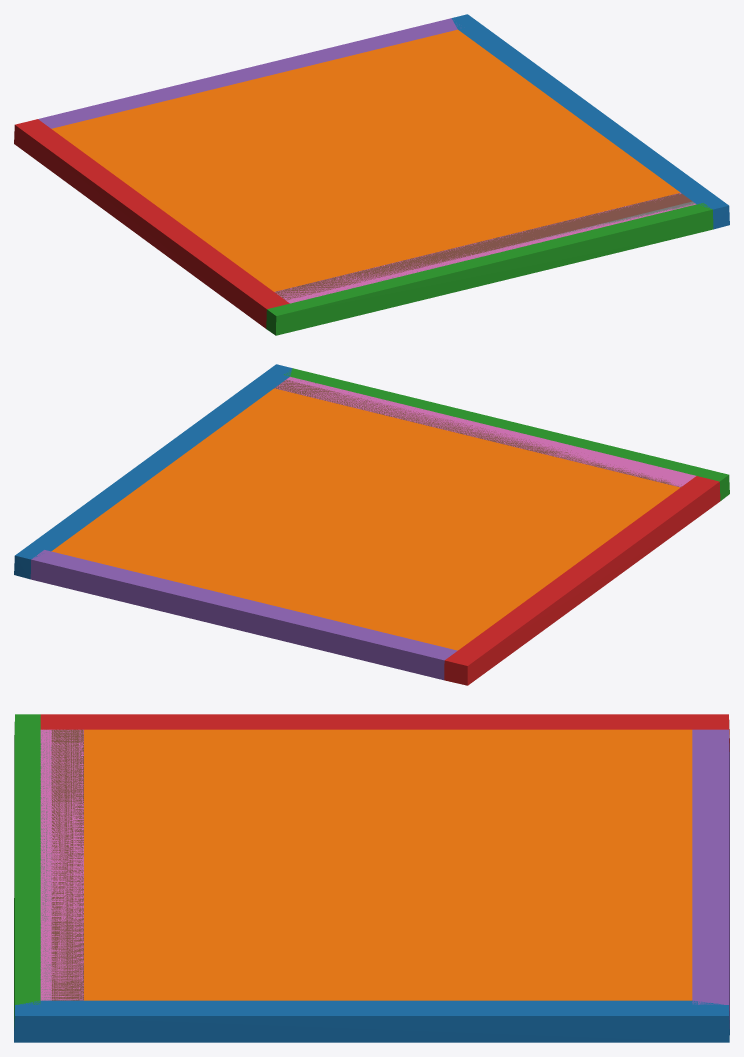
File: Picture_02_cvx.obj
3 views of the same model, one above another, from view 1: azimuth 30°, elevation 25°; view 2: azimuth 150°, elevation 25°; view 3: azimuth 270°, elevation 25° (orthographic). The views are drawn at different scales.
Parts seen in each view (by area): view 1: scenes/apartment_0000_coacd/output/Unknown/Picture_02/cvx/Pictur; view 2: scenes/apartment_0000_coacd/output/Unknown/Picture_02/cvx/Pictur; view 3: scenes/apartment_0000_coacd/output/Unknown/Picture_02/cvx/Pictur.
Part boxes in pixels (x1,y1,x2,y2): scenes/apartment_0000_coacd/output/Unknown/Picture_02/cvx/Pictur: (14, 14, 729, 335); scenes/apartment_0000_coacd/output/Unknown/Picture_02/cvx/Pictur: (14, 364, 729, 685); scenes/apartment_0000_coacd/output/Unknown/Picture_02/cvx/Pictur: (14, 714, 729, 1042).
Bounding box in the file's own units: 1.4 × 0.06 × 1.4.
